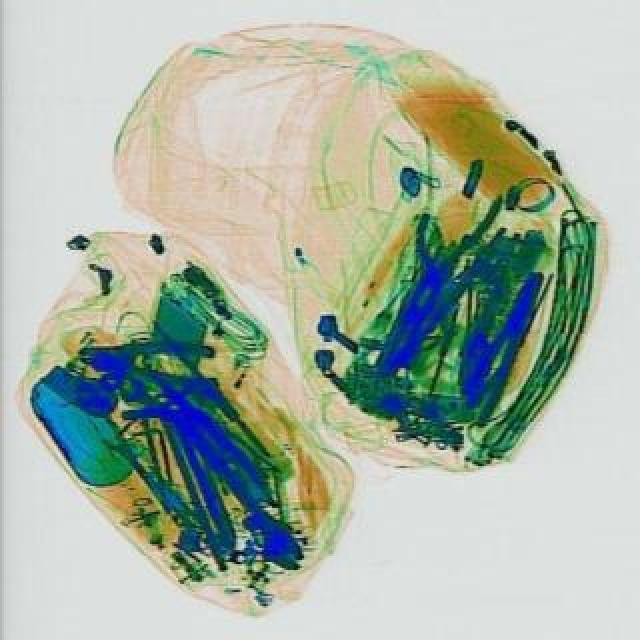scissors: (166, 416, 310, 578), (114, 372, 188, 428)
wrench: (448, 264, 550, 428), (394, 178, 498, 310), (74, 332, 220, 388)
